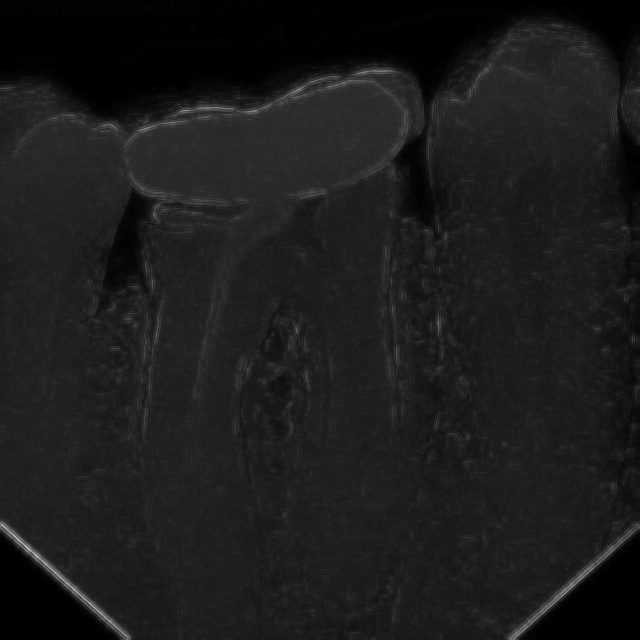Class 2- incomplete endodontic treatment: (107, 71, 474, 640)
